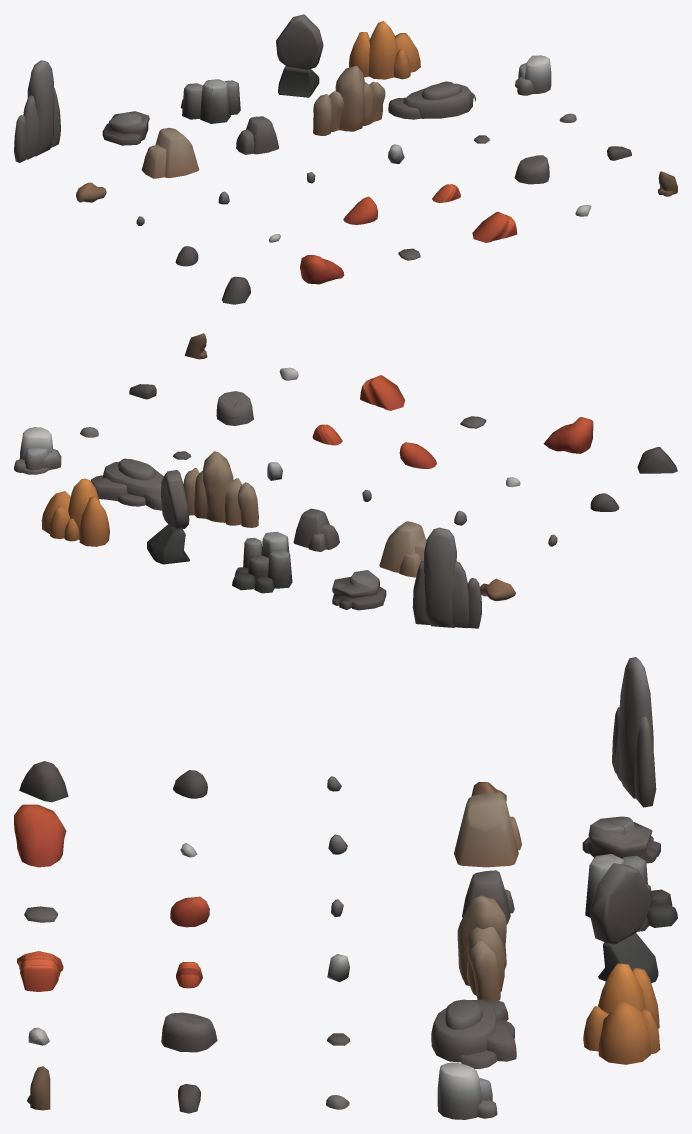
File: Rocks_01.fbx
3 views of the same model, one above another, from view 1: azimuth 30°, elevation 25°; view 2: azimuth 150°, elevation 25°; view 3: azimuth 270°, elevation 25° (orthographic). The views are drawn at different scales.
Parts seen in each view (by area): view 1: Rock_Formation.003, Rock_Formation.008, Rock_Formation.013, Rock_Formation.016, Rock_Formation.004, Rock_Formation.012, Rock_Formation.001, Rock_Formation.010, Rock_Formation.002, Rock_Formation.005, Rock.002, Rock.004 (+4 smaller); view 2: Rock_Formation.008, Rock_Formation.003, Rock_Formation.016, Rock_Formation.012, Rock_Formation.004, Rock_Formation.013, Rock_Formation.001, Rock_Formation.010, Rock_Formation.005, Rock_Formation.002, Rock.002, Rock.004 (+6 smaller); view 3: Rock_Formation.016, Rock_Formation.013, Rock_Formation.004, Rock_Formation.008, Rock_Formation.003, Rock_Formation.001, Rock_Formation.005, Rock.002, Rock_Formation.010, Rock_Formation.012, Rock.011, Rock.004 (+5 smaller).
Boxes of the visible parts, x1,y1,x2,y2 form: Rock_Formation.003: [313, 65, 385, 135]; Rock_Formation.008: [14, 60, 60, 162]; Rock_Formation.013: [276, 14, 323, 97]; Rock_Formation.016: [349, 21, 420, 79]; Rock_Formation.004: [388, 81, 475, 119]; Rock_Formation.012: [180, 79, 240, 123]; Rock_Formation.001: [141, 127, 199, 178]; Rock_Formation.010: [102, 111, 149, 145]; Rock_Formation.002: [236, 116, 278, 154]; Rock_Formation.005: [515, 55, 551, 95]; Rock.002: [300, 255, 344, 284]; Rock.004: [472, 211, 517, 242]; Rock_Formation.008: [412, 527, 481, 628]; Rock_Formation.003: [183, 451, 258, 527]; Rock_Formation.016: [41, 478, 109, 546]; Rock_Formation.012: [232, 531, 292, 593]; Rock_Formation.004: [91, 458, 163, 510]; Rock_Formation.013: [147, 470, 189, 564]; Rock_Formation.001: [379, 521, 426, 577]; Rock_Formation.010: [332, 570, 386, 610]; Rock_Formation.005: [14, 427, 61, 474]; Rock_Formation.002: [293, 508, 339, 551]; Rock.002: [543, 417, 593, 453]; Rock.004: [360, 375, 404, 410]; Rock_Formation.016: [583, 963, 660, 1064]; Rock_Formation.013: [589, 863, 658, 982]; Rock_Formation.004: [431, 999, 516, 1068]; Rock_Formation.008: [612, 657, 656, 807]; Rock_Formation.003: [457, 895, 506, 1000]; Rock_Formation.001: [454, 792, 521, 867]; Rock_Formation.005: [437, 1062, 497, 1119]; Rock.002: [14, 804, 66, 867]; Rock_Formation.010: [582, 816, 660, 863]; Rock_Formation.012: [585, 854, 677, 931]; Rock.011: [161, 1012, 217, 1052]; Rock.004: [17, 951, 63, 991].
Bounding box in the file's own units: 3346 × 679 × 2679.
